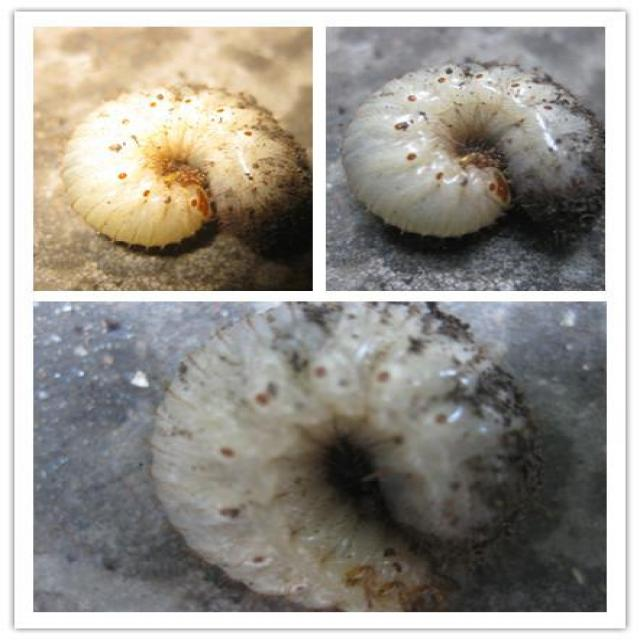Grub-Adult-: (131, 293, 549, 613), (321, 61, 610, 256), (50, 76, 327, 270)
